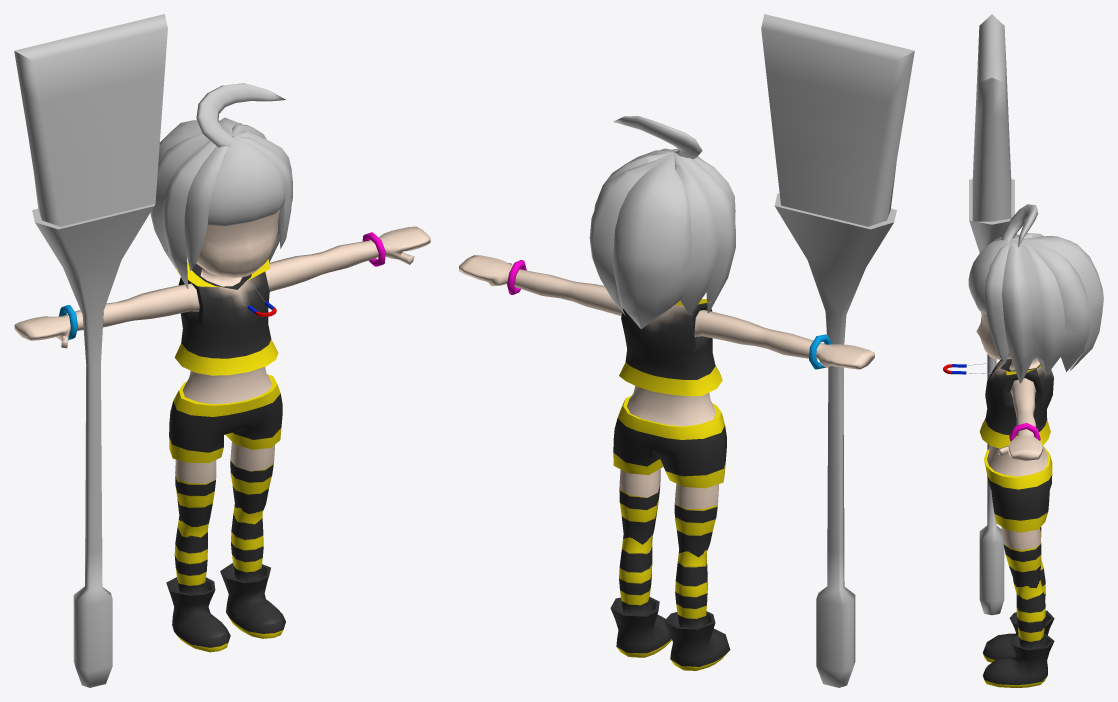
File: chara_03.fbx
3 views of the same model, side by side, from view 1: azimuth 30°, elevation 25°; view 2: azimuth 150°, elevation 25°; view 3: azimuth 270°, elevation 25° (orthographic). The views are drawn at different scales.
Parts seen in each view (by area): view 1: chara1, brush, hair1, hair2, hair3; view 2: brush, chara1, hair1, hair3; view 3: chara1, hair1, brush, hair2, hair3, bracelet_l.
Boxes of the visible parts, x1,y1,x2,y2 form: chara1: (14,209,430,652); brush: (14,14,167,687); hair1: (150,117,292,288); hair2: (207,137,285,226); hair3: (196,83,285,147); brush: (761,14,914,687); chara1: (459,255,874,670); hair1: (589,148,735,329); hair3: (613,116,702,159); chara1: (976,312,1054,687); hair1: (984,233,1103,383); brush: (969,14,1014,615); hair2: (968,239,1008,314); hair3: (1001,204,1037,247); bracelet_l: (1009,423,1040,441).
Size of the model in its own units: 125 by 181 by 46.92.
